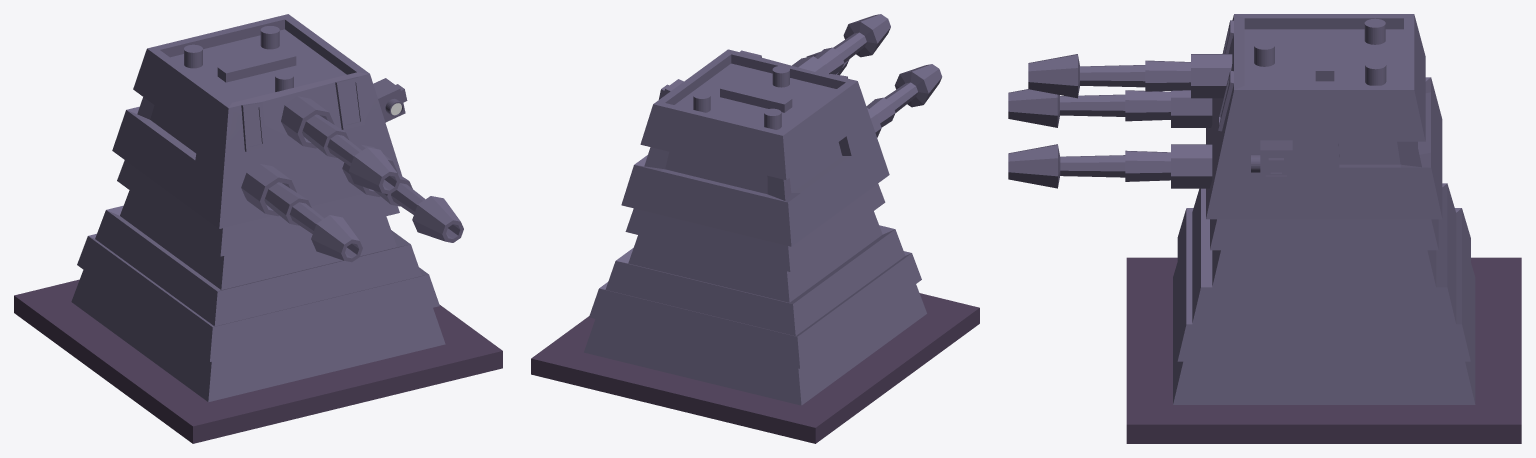
Rendered from Torre.fbx.
The picture shows the model from 3 angles, left to right: view 1: azimuth 30°, elevation 25°; view 2: azimuth 150°, elevation 25°; view 3: azimuth 270°, elevation 25°; orthographic projection. The views are drawn at different scales.
Visible parts, largest first — view 1: Plane.001, Plane.002, Plane, Cylinder.001, Cylinder, Cylinder.002; view 2: Plane.001, Plane.002, Plane, Cylinder, Cylinder.001; view 3: Plane.001, Plane.002, Plane, Cylinder.002, Cylinder, Cylinder.001.
Part boxes in pixels (box(x1,y1,x2,y2)): Plane.001: box(71, 160, 445, 401); Plane.002: box(112, 14, 407, 228); Plane: box(14, 279, 502, 443); Cylinder.001: box(241, 164, 362, 262); Cylinder: box(281, 96, 400, 194); Cylinder.002: box(342, 144, 463, 242); Plane.001: box(584, 183, 926, 405); Plane.002: box(621, 49, 889, 246); Plane: box(531, 293, 979, 443); Cylinder: box(792, 14, 890, 75); Cylinder.001: box(866, 64, 942, 137); Plane.001: box(1173, 183, 1475, 404); Plane.002: box(1206, 14, 1442, 219); Plane: box(1126, 257, 1521, 443); Cylinder.002: box(1008, 144, 1212, 188); Cylinder: box(1028, 54, 1232, 98); Cylinder.001: box(1008, 89, 1212, 127).
Size of the model in its own units: 200 by 176 by 260.
